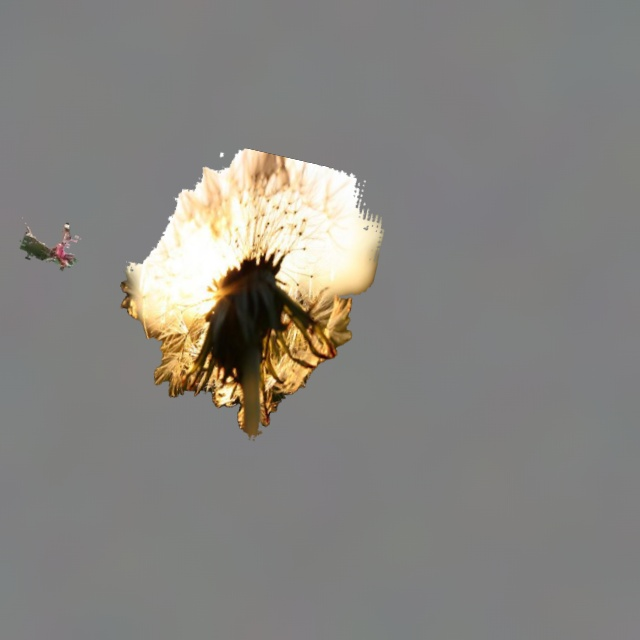dandelion: (121, 148, 383, 440)
ylang-ylang: (20, 217, 78, 270)
